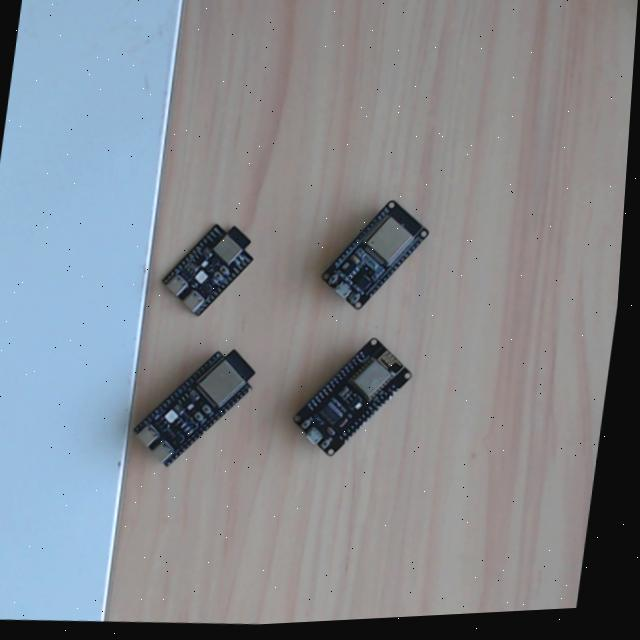ESP32-DevKit: (319, 193, 435, 311)
ESP32C3-DevKit: (158, 211, 266, 320)
ESP32S3-Devkit: (131, 338, 266, 470)
ESP8266-NodeMCU: (289, 331, 418, 460)
